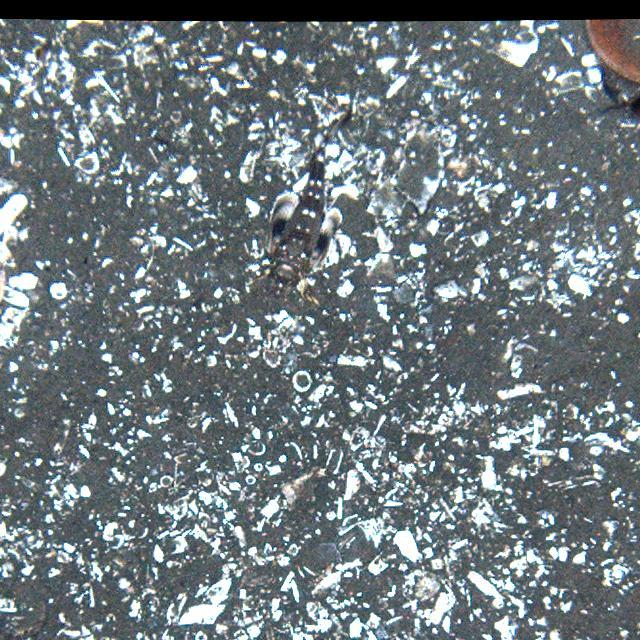roundfish: (262, 110, 356, 302)
